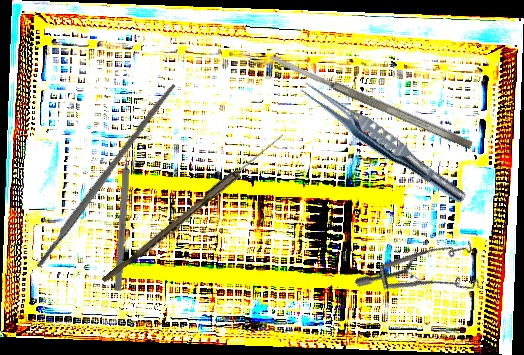Hook Surgical: (114, 139, 132, 292)
Scalpel Handle: (33, 81, 178, 269)
Spatula Surgical: (268, 50, 474, 152)
Speculum: (353, 212, 496, 345)
Surgical Spoon: (101, 129, 287, 288)
Tissue Forceps: (292, 75, 473, 209)
